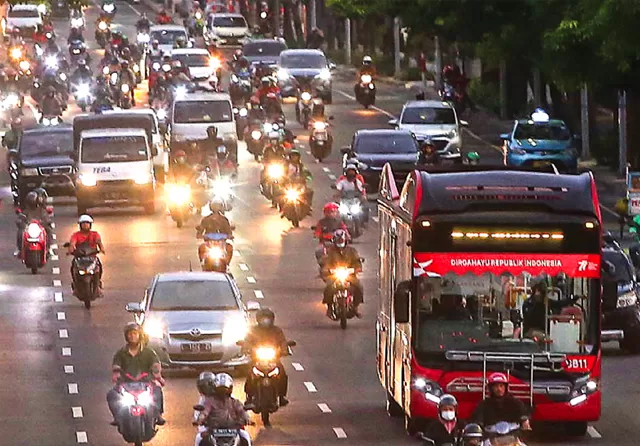bus: (375, 166, 609, 426)
mobil: (129, 268, 257, 365), (68, 114, 168, 215), (239, 32, 338, 101), (342, 121, 432, 188), (498, 107, 583, 168), (388, 93, 472, 154), (10, 120, 70, 204)
sepeda: (253, 130, 317, 231), (98, 356, 167, 442), (313, 251, 368, 334), (237, 340, 291, 417), (57, 235, 108, 313), (191, 225, 244, 277), (9, 216, 51, 280), (352, 48, 380, 113)
